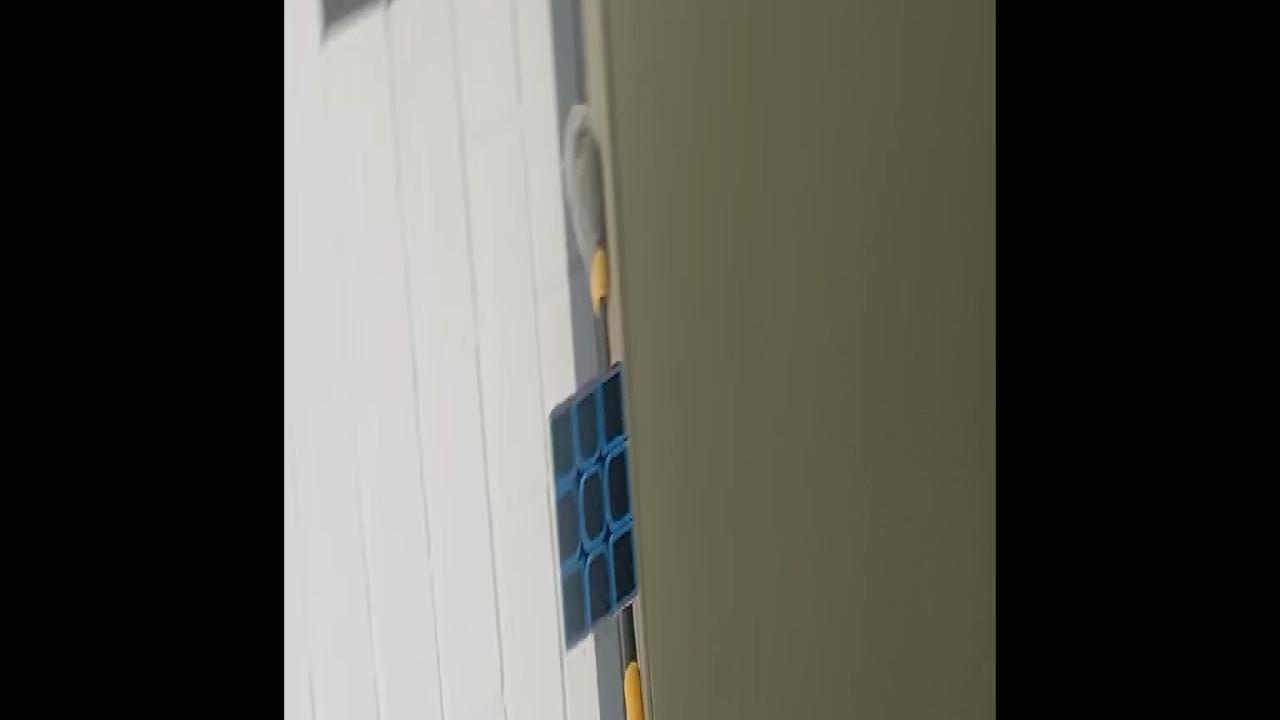Cube: (546, 360, 638, 656)
